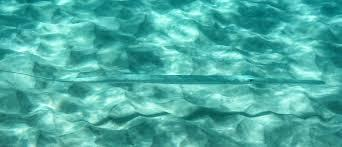Fistularia commersonii: (16, 64, 331, 94)
